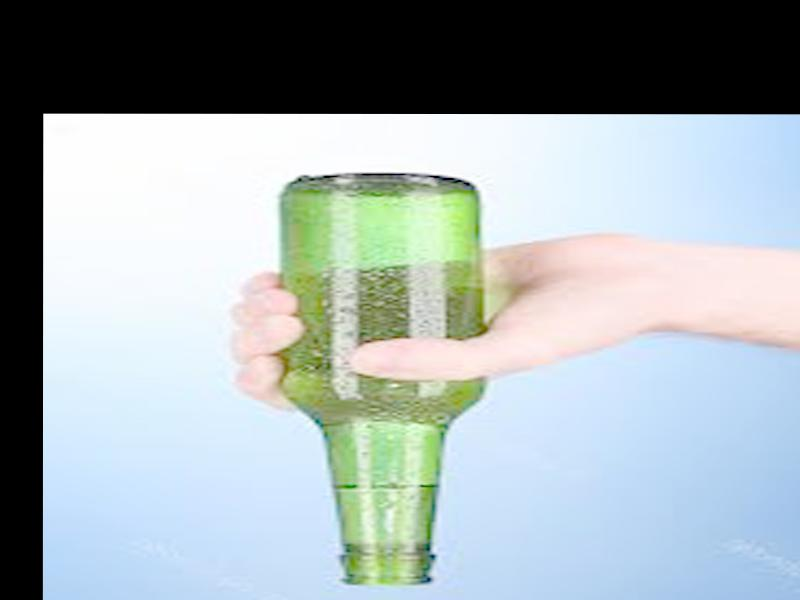Beer: (283, 172, 480, 586)
